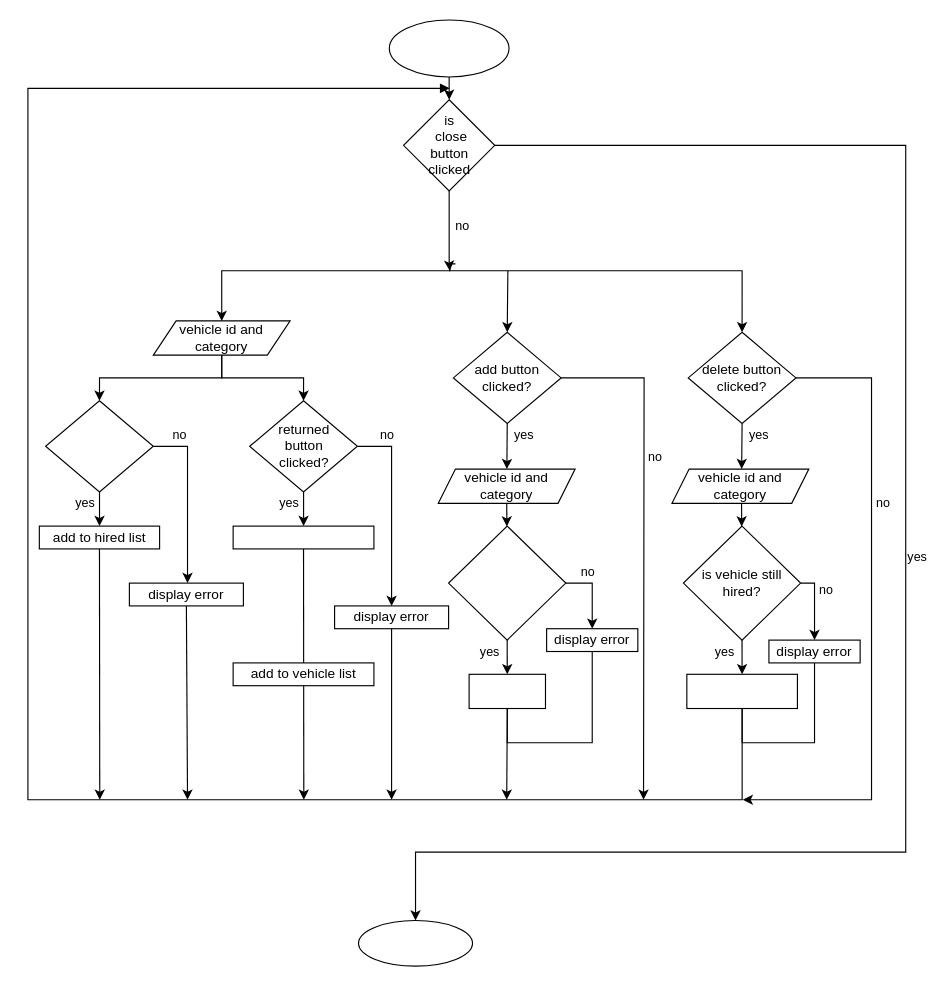
The diagram is 946 pixels wide and 986 high, and some of its shapes have lost their labels. The centre of each missing label's shape, as x and y in pixels:
"add vehicle id to list" goes at point (506, 691).
"End" goes at point (415, 942).
"hire button clicked?" goes at point (98, 446).
"is vehicle id is already in the system" goes at point (506, 582).
"remove to hired list" goes at point (303, 537).
"remove vehicle from list" goes at point (741, 691).
"Start" goes at point (448, 48).
